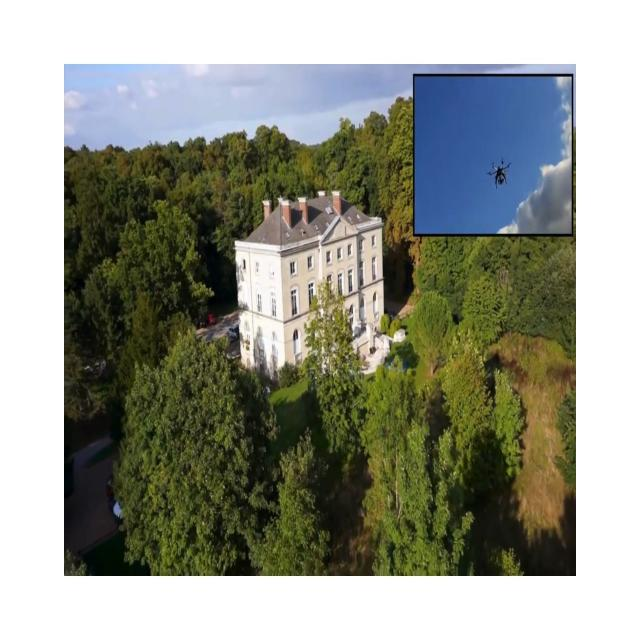drone: (487, 158, 511, 188)
